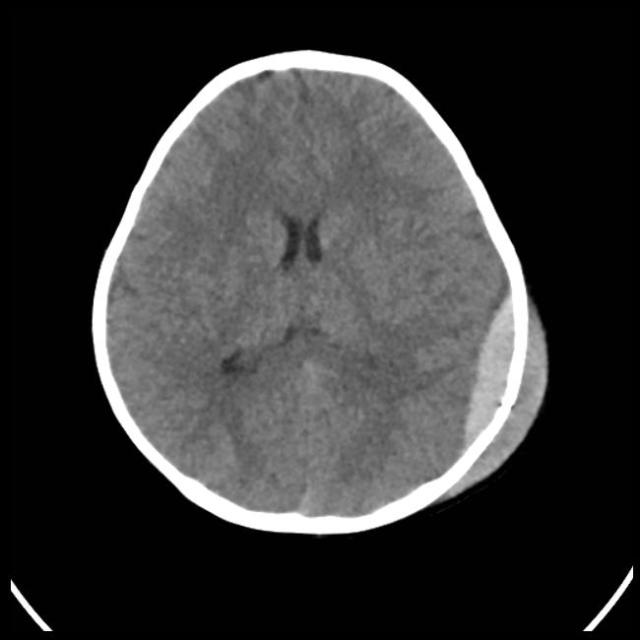lesion: (90, 49, 548, 534)
